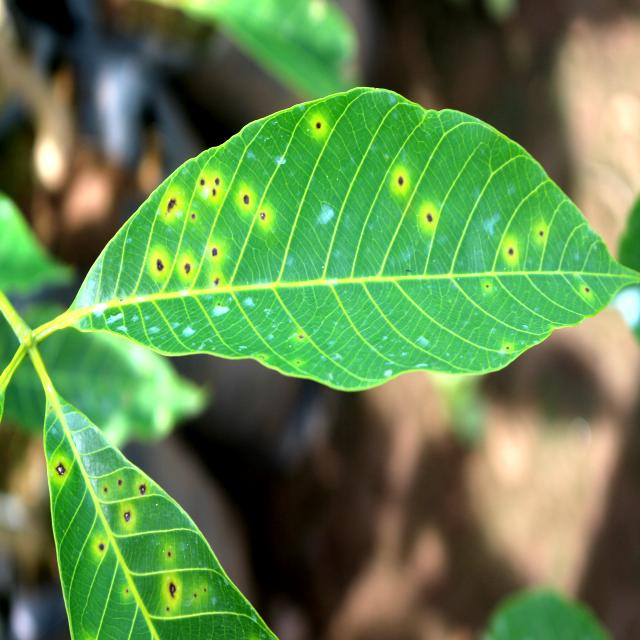Colletotrichum: (56, 464, 65, 475), (156, 259, 164, 271), (169, 582, 176, 593), (139, 484, 146, 494), (184, 264, 190, 274), (124, 512, 130, 522), (244, 194, 249, 204), (398, 177, 404, 185), (212, 248, 217, 256), (428, 213, 432, 222), (316, 122, 321, 129), (99, 544, 104, 550)
